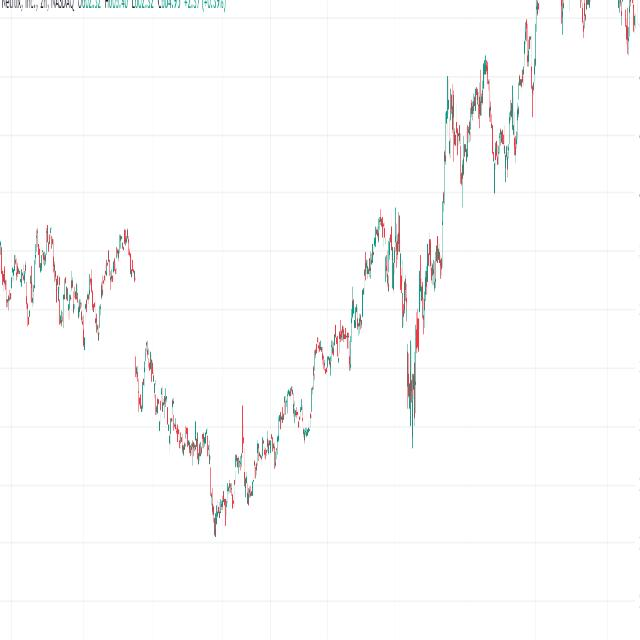Ascending-Triangle: (393, 229, 454, 500)
Rounding-Bottom: (146, 335, 338, 543)
